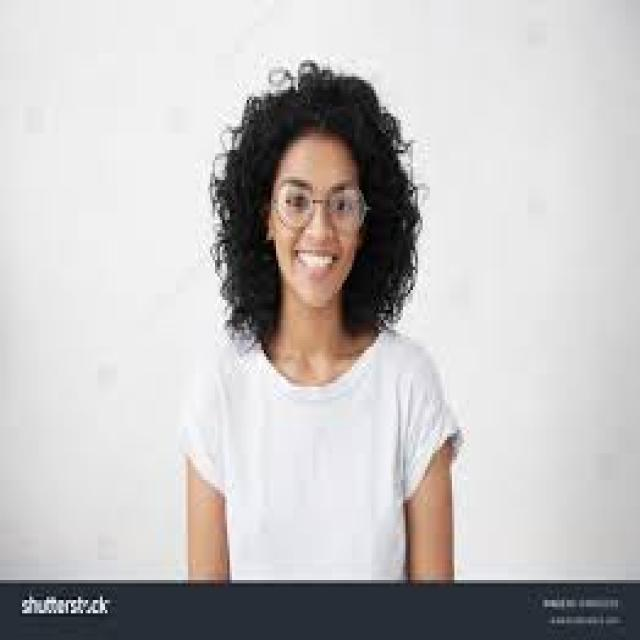human: (179, 59, 473, 586)
